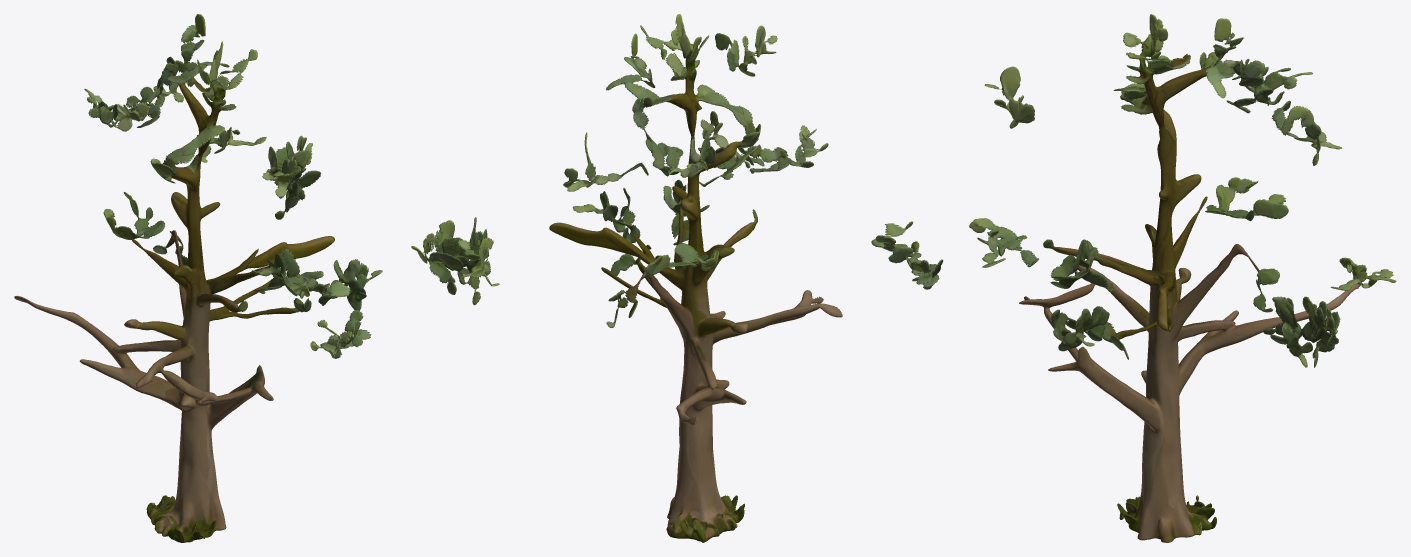
File: lush-leafy-stadium-park-tree-broad-canopy-game-rea.glb
The picture shows the model from 3 angles, left to right: view 1: azimuth 30°, elevation 25°; view 2: azimuth 150°, elevation 25°; view 3: azimuth 270°, elevation 25°; orthographic projection. The views are drawn at different scales.
Parts seen in each view (by area): view 1: tripo_node_6ad93a3b-00ab-46da-af6c-4b2550a7e229; view 2: tripo_node_6ad93a3b-00ab-46da-af6c-4b2550a7e229; view 3: tripo_node_6ad93a3b-00ab-46da-af6c-4b2550a7e229.
Part boxes in pixels (left/top/right/bottom): tripo_node_6ad93a3b-00ab-46da-af6c-4b2550a7e229: left=14, top=14, right=382, bottom=542; tripo_node_6ad93a3b-00ab-46da-af6c-4b2550a7e229: left=411, top=14, right=842, bottom=542; tripo_node_6ad93a3b-00ab-46da-af6c-4b2550a7e229: left=871, top=14, right=1396, bottom=542.
Bounding box in the file's own units: 0.6418 × 1 × 0.8996.
1 material, 1 textured.
